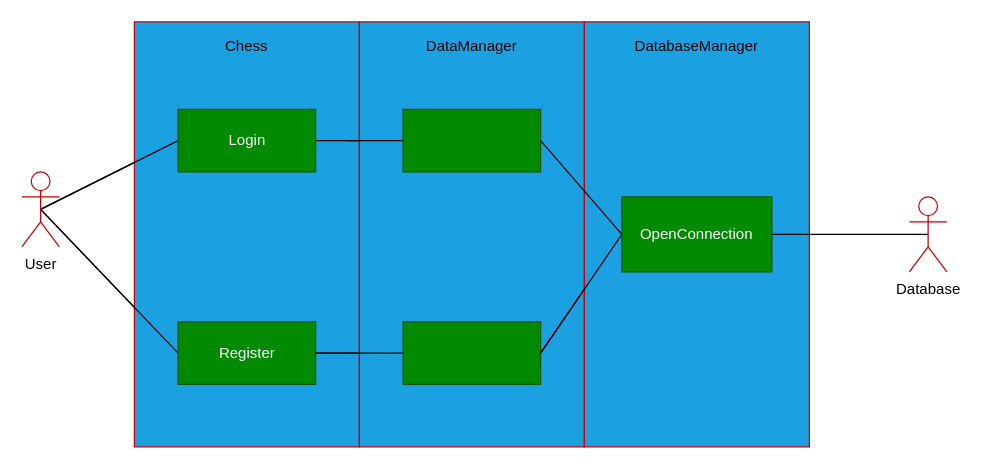
Image size: 981x469. Some labels were removed from this diagram. Each missing label, with the centre of its shape:
"LoginRequest" goes at pixel 471 140.
"RegisterRequest" goes at pixel 471 352.
